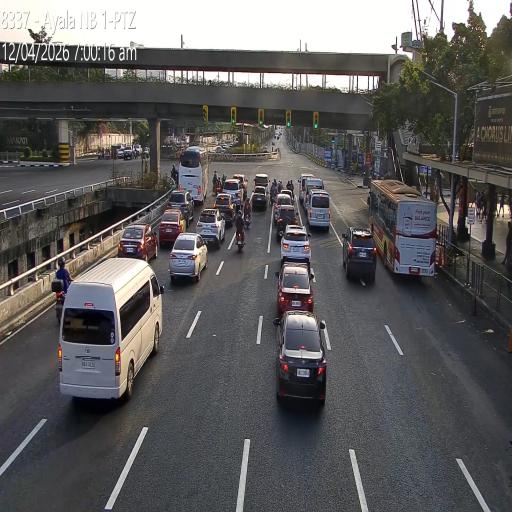Car: (55, 252, 169, 412), (272, 306, 331, 414), (168, 232, 210, 284), (276, 258, 314, 315), (342, 226, 375, 282), (118, 222, 160, 264), (279, 228, 311, 270), (195, 210, 225, 252), (159, 208, 188, 248), (167, 189, 195, 228), (306, 187, 331, 229), (274, 201, 299, 238), (304, 175, 325, 212), (222, 178, 244, 213), (214, 192, 236, 226), (298, 172, 314, 204), (251, 185, 268, 212), (253, 170, 269, 195), (278, 188, 295, 210), (123, 145, 133, 161), (116, 146, 125, 160), (142, 145, 150, 159)
Motor: (50, 246, 73, 324), (234, 211, 247, 252), (243, 193, 252, 229), (168, 160, 178, 188), (214, 174, 222, 197), (211, 168, 218, 194), (270, 181, 275, 205), (222, 172, 228, 188), (133, 147, 138, 161)
Not Accident: (339, 175, 438, 293), (277, 223, 330, 411), (159, 152, 229, 293), (115, 204, 186, 262), (211, 161, 253, 249), (296, 168, 334, 236), (270, 171, 299, 248)
